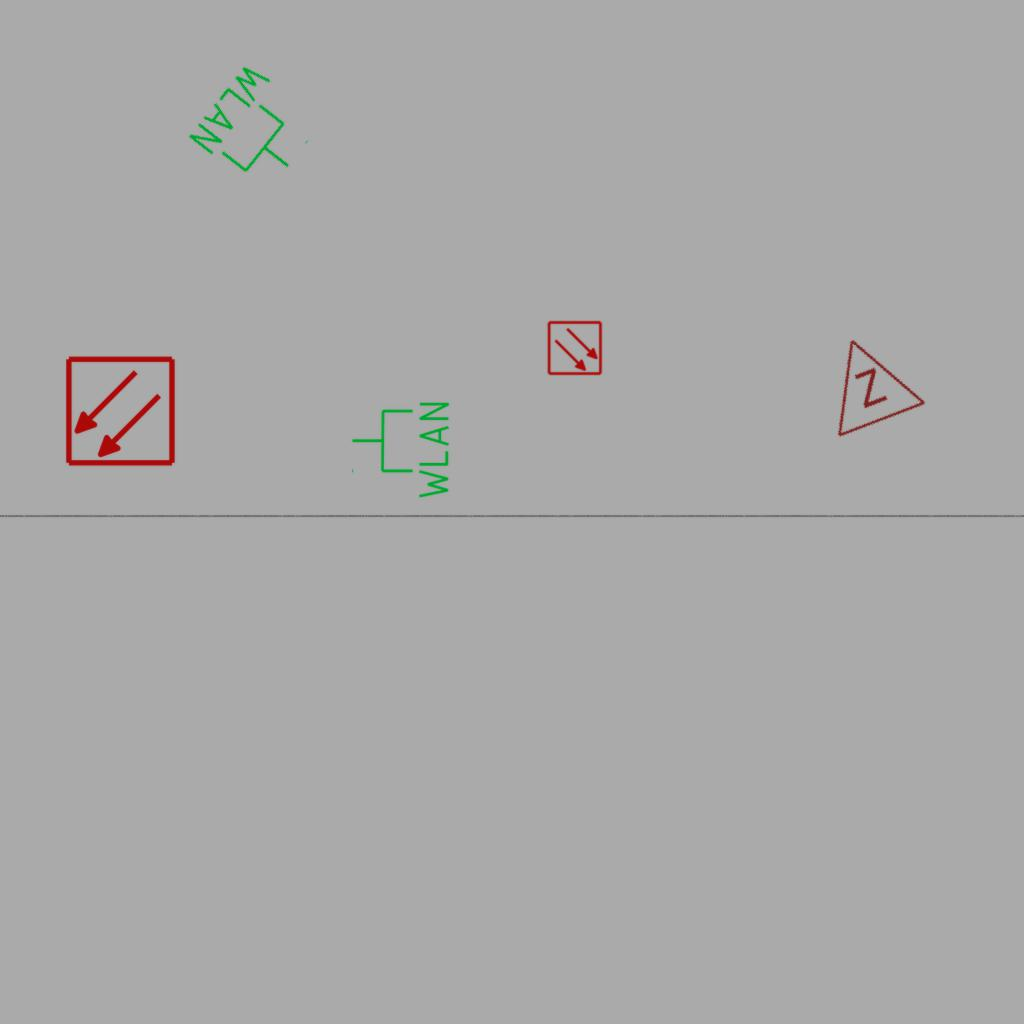RMO_Rauchmelder_optischer: (64, 355, 177, 468), (547, 320, 603, 376)
WLAN: (182, 55, 330, 202), (349, 398, 453, 503)
Zimmersignalleuchte: (802, 316, 930, 446)
